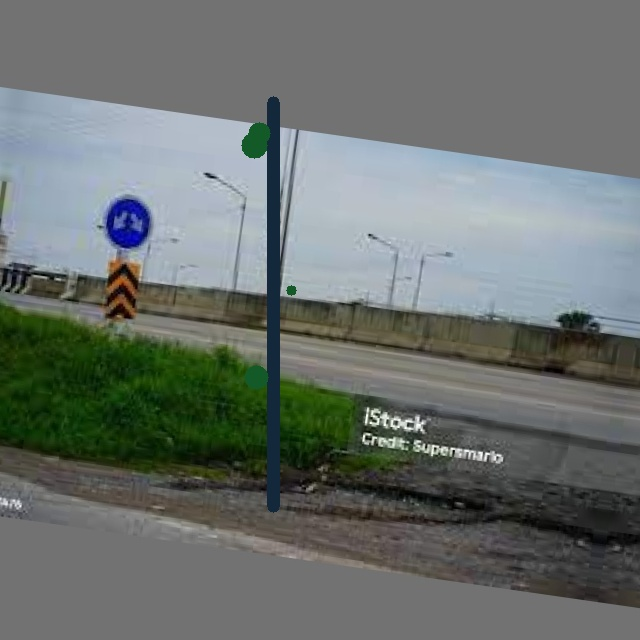Pass_Either_Side: (103, 191, 158, 253)
